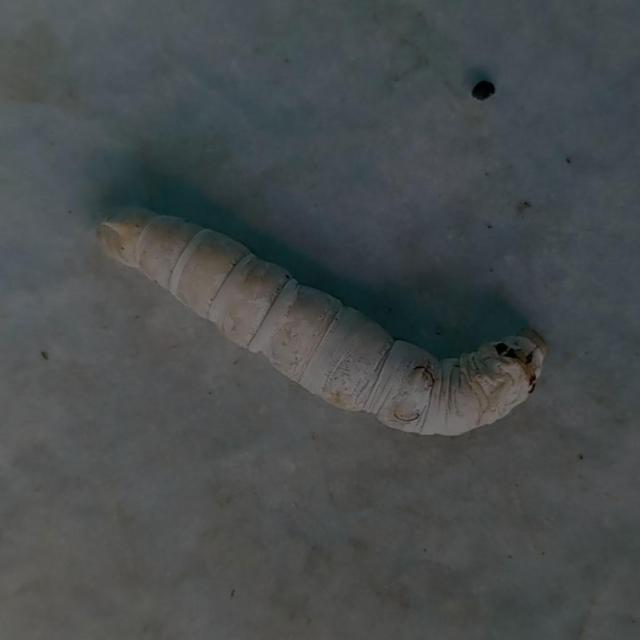Grasserie: (85, 188, 551, 444)
